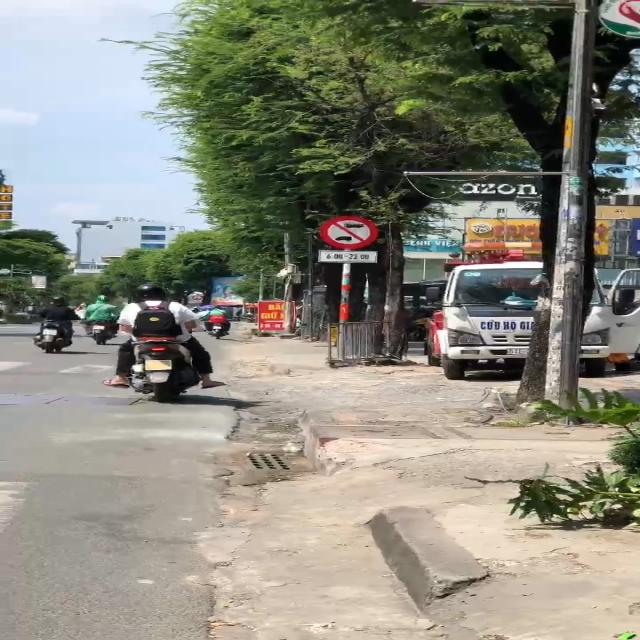Bien bao cam xe oto khach va xe oto tai: (316, 215, 376, 252)
